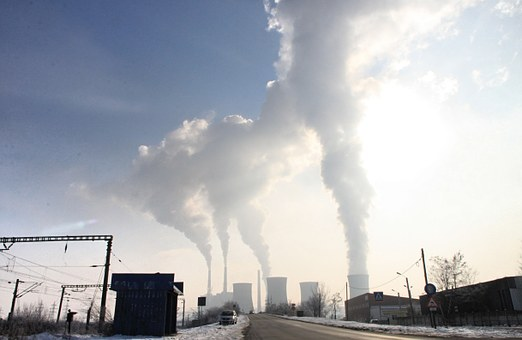dust: (309, 126, 389, 282), (154, 175, 215, 272), (233, 202, 288, 288), (200, 194, 236, 270)
